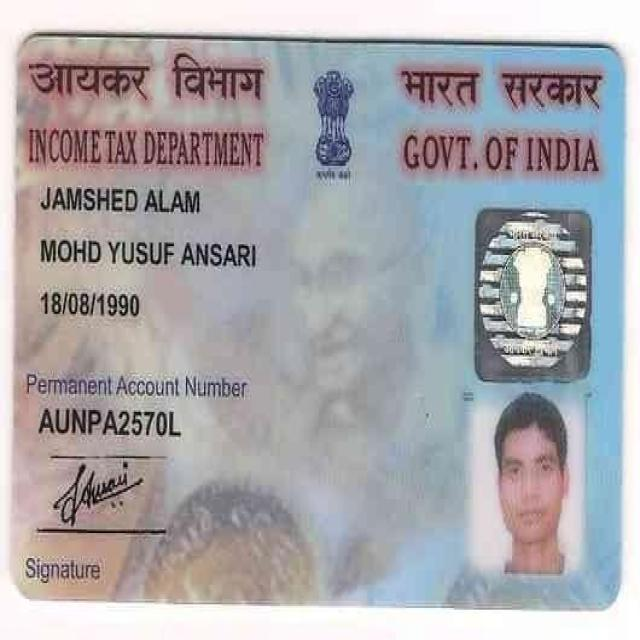pan_card: (19, 34, 612, 602)
